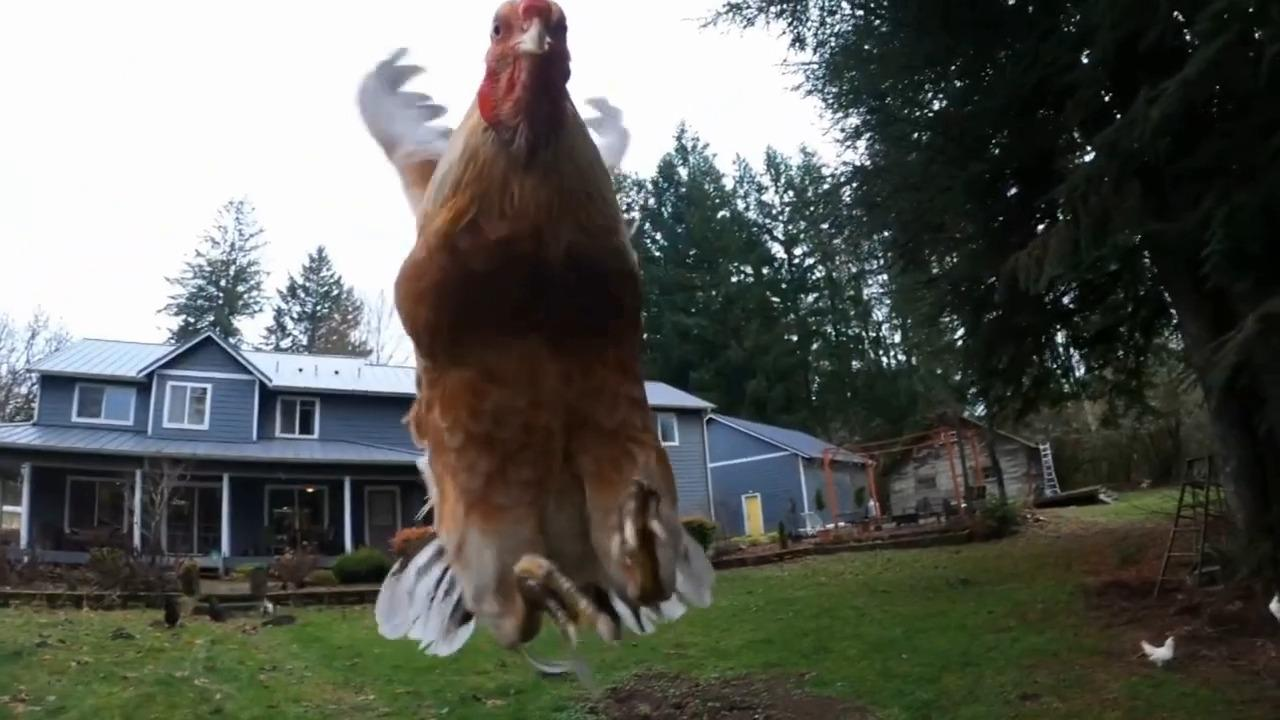Normal: (308, 0, 776, 720)
